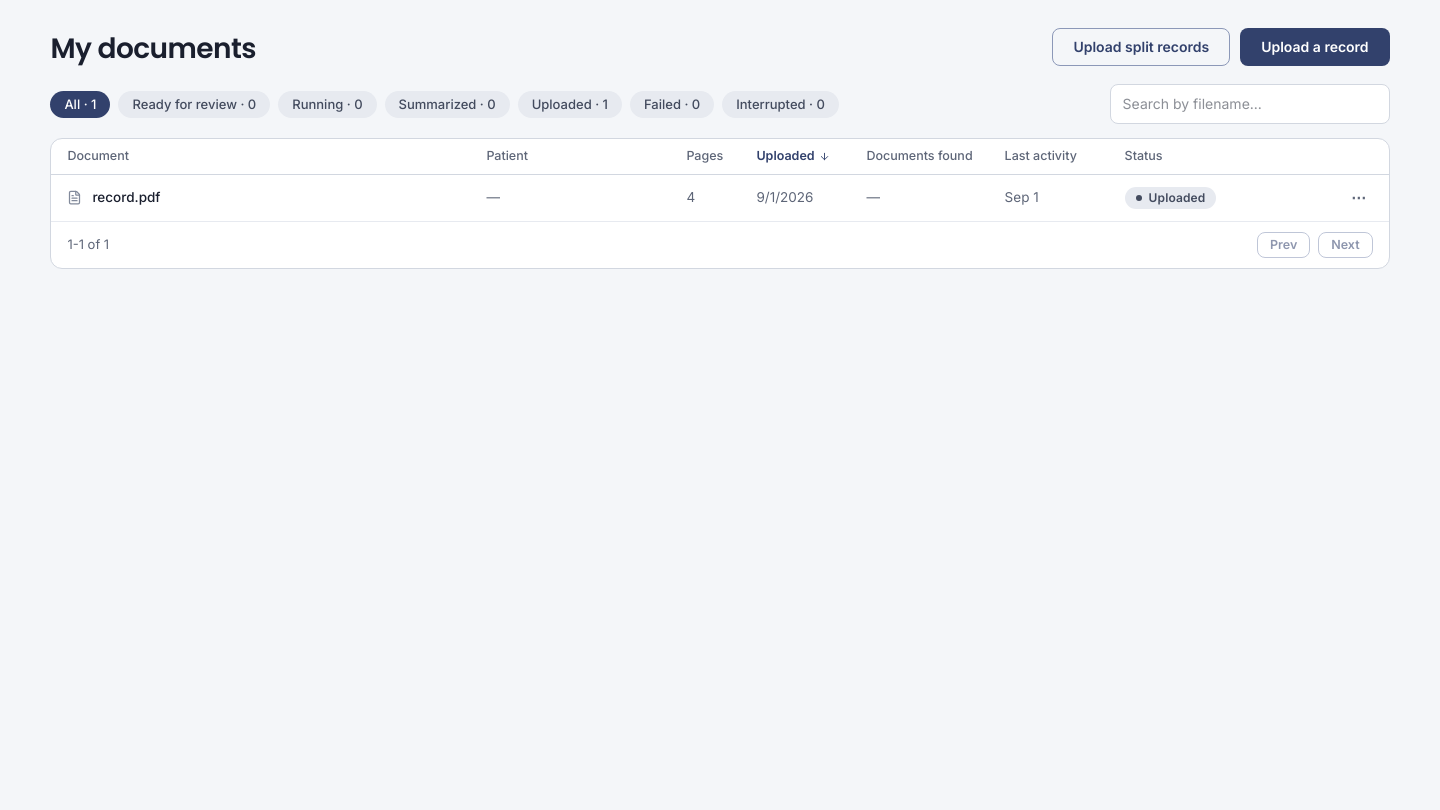
it: DocumentsView navigation › opens the split-upload dialog from its own button
Click the button "Upload split records" at (1141, 47), box 1052,28 -> 1230,66
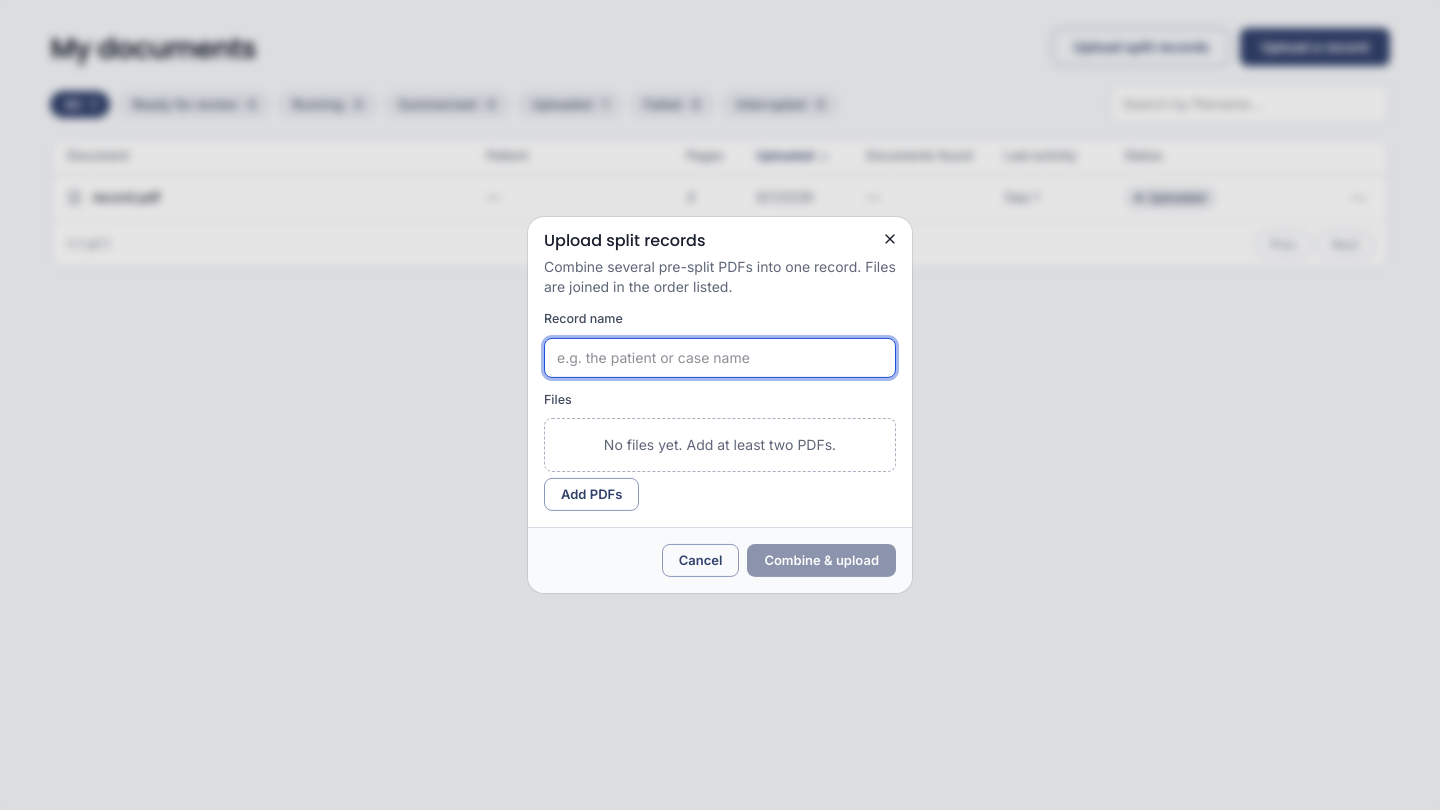
Expected: the heading "Upload split records" is shown, 544,229 -> 706,252
